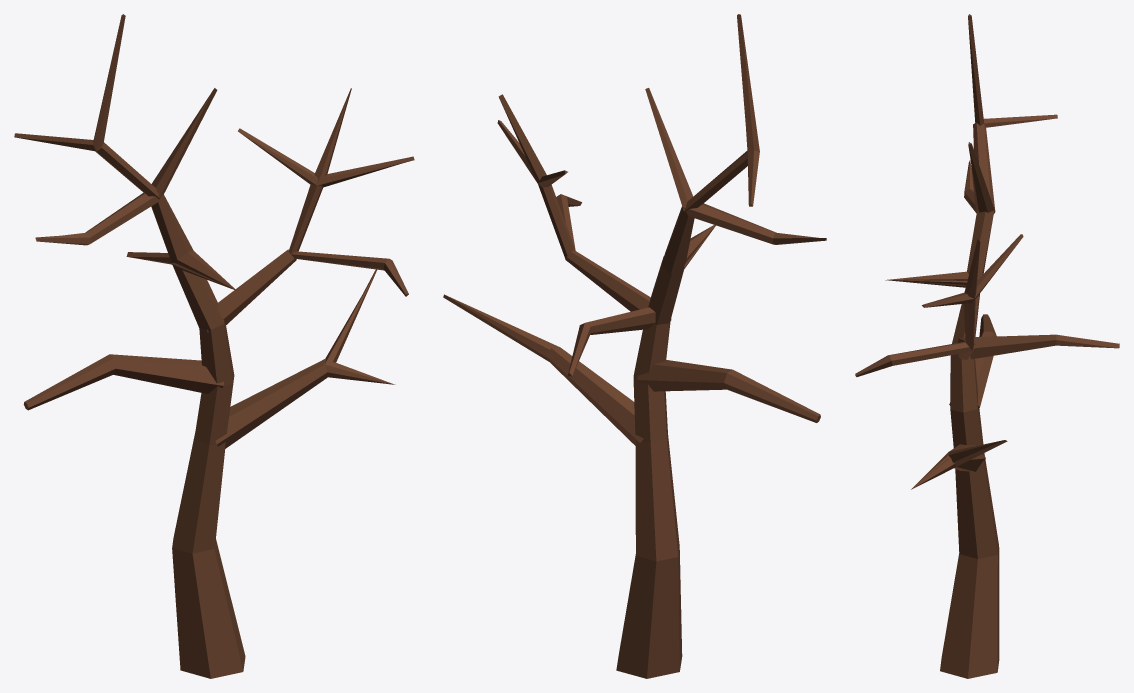
The model's file is Tree_Dead_Small.fbx.
The picture shows the model from 3 angles, left to right: view 1: azimuth 30°, elevation 25°; view 2: azimuth 150°, elevation 25°; view 3: azimuth 270°, elevation 25°; orthographic projection. The views are drawn at different scales.
Visible parts, largest first — view 1: Tree_Dead_Small; view 2: Tree_Dead_Small; view 3: Tree_Dead_Small.
Boxes of the visible parts, left/top/right/bottom form: Tree_Dead_Small: left=14, top=14, right=414, bottom=678; Tree_Dead_Small: left=443, top=14, right=826, bottom=678; Tree_Dead_Small: left=855, top=14, right=1119, bottom=678.
Size of the model in its own units: 0.6043 by 1.06 by 0.4177.
